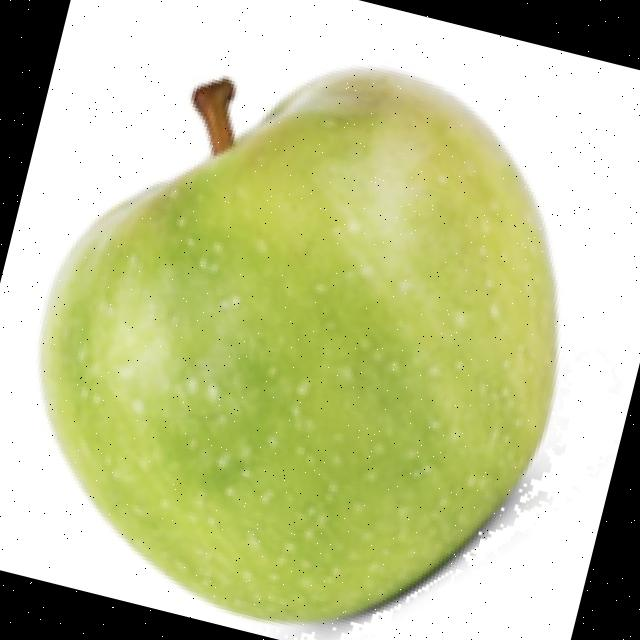apple: (32, 60, 582, 640)
